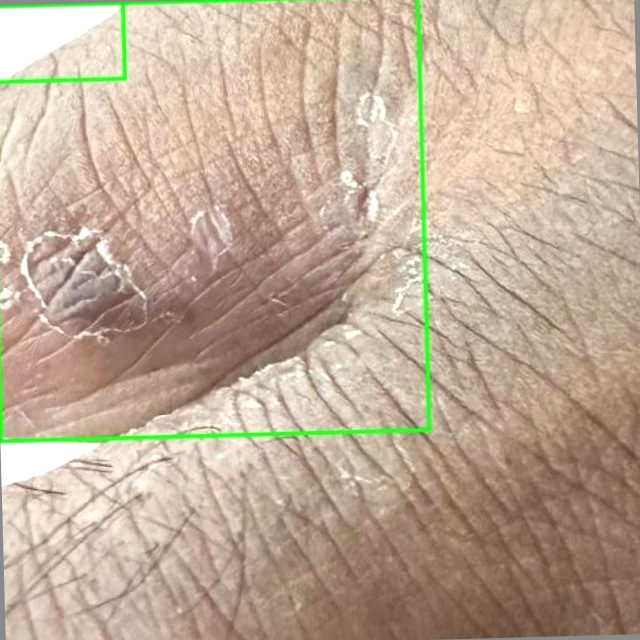Scabies: (0, 0, 429, 441), (0, 2, 126, 83)
